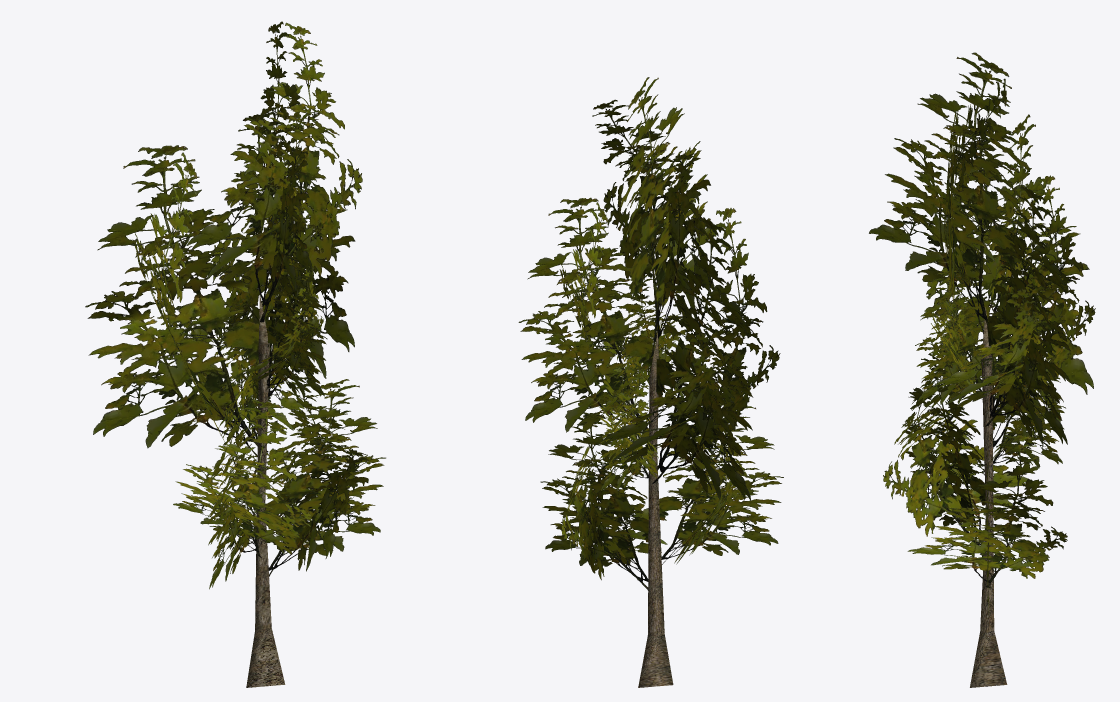
Rendered from NW_NATURE_SMALLTREE_103P.glb.
3 renders of one model, left to right at view 1: azimuth 30°, elevation 25°; view 2: azimuth 150°, elevation 25°; view 3: azimuth 270°, elevation 25°, orthographic. The views are drawn at different scales.
Visible parts, largest first — view 1: Mesh; view 2: Mesh; view 3: Mesh.
Part boxes in pixels (<box>): Mesh: <box>85,21,385,687</box>; Mesh: <box>518,77,783,687</box>; Mesh: <box>869,52,1095,687</box>.
Bounding box in the file's own units: 6.8 × 12 × 3.94.
3 materials, 3 textured.
